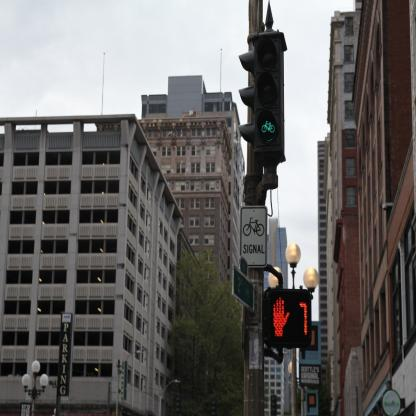Don-t Walk: (266, 289, 295, 346)
